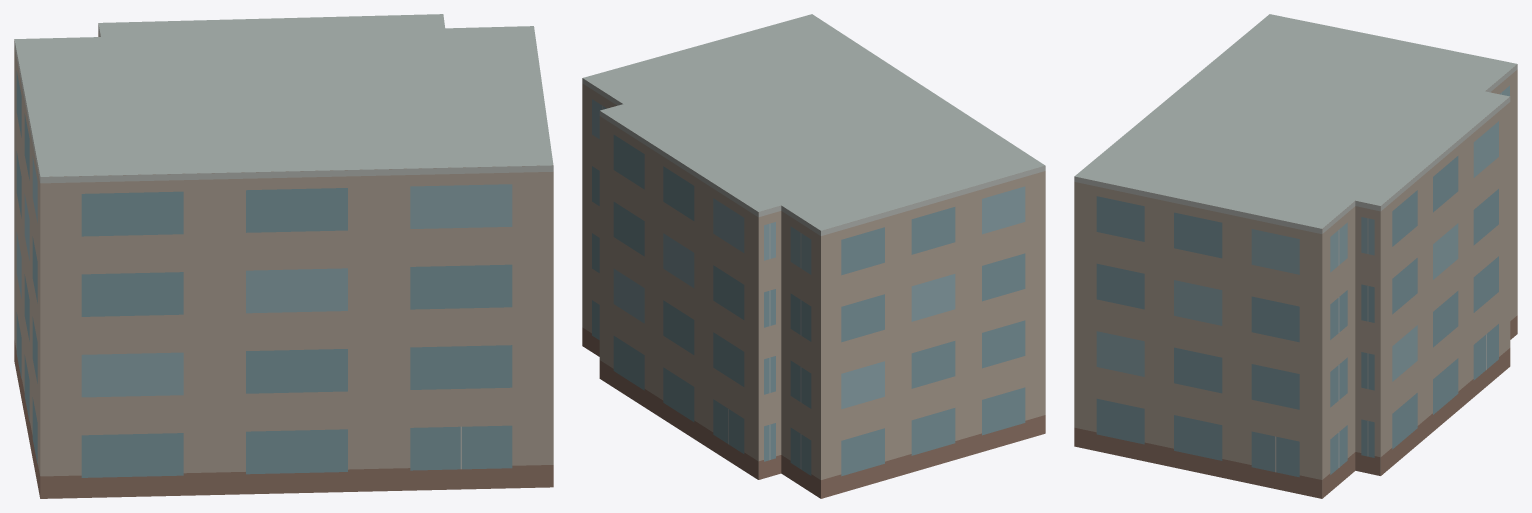
Rendered from survey-upis-32666237.glb.
The picture shows the model from 3 angles, left to right: view 1: azimuth 30°, elevation 25°; view 2: azimuth 150°, elevation 25°; view 3: azimuth 270°, elevation 25°; orthographic projection. The views are drawn at different scales.
Parts seen in each view (by area): view 1: survey-upis-32666237.tmp; view 2: survey-upis-32666237.tmp; view 3: survey-upis-32666237.tmp.
Part boxes in pixels (box(x1,y1,x2,y2)): survey-upis-32666237.tmp: box(14, 14, 553, 498); survey-upis-32666237.tmp: box(582, 14, 1045, 498); survey-upis-32666237.tmp: box(1074, 14, 1517, 498).
Bounding box in the file's own units: 20.95 × 12.27 × 18.27.
